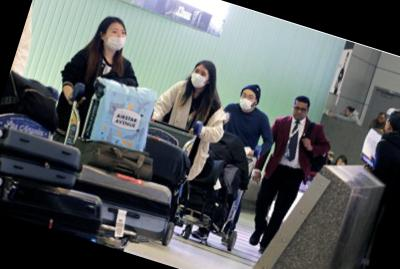with_mask: (102, 23, 130, 53), (188, 66, 211, 90), (238, 90, 258, 113)
without_mask: (292, 102, 309, 121), (377, 114, 388, 125)
